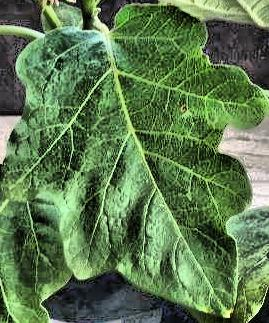HEALTHY: (0, 1, 269, 323)
